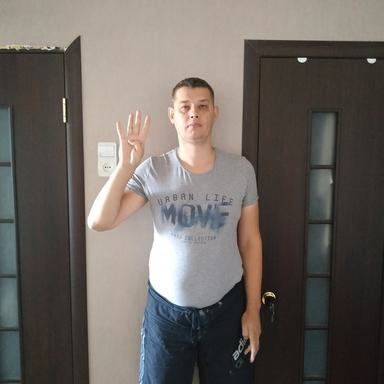four: (115, 109, 151, 167)
